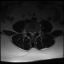CCS_normal: (31, 29, 33, 38)
LFS_normal: (35, 28, 37, 35)
LLS_normal: (33, 29, 35, 37)
RFS_normal: (28, 29, 30, 35)
RLS_normal: (30, 29, 32, 36)
